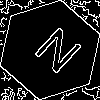N: (25, 25, 84, 83)
